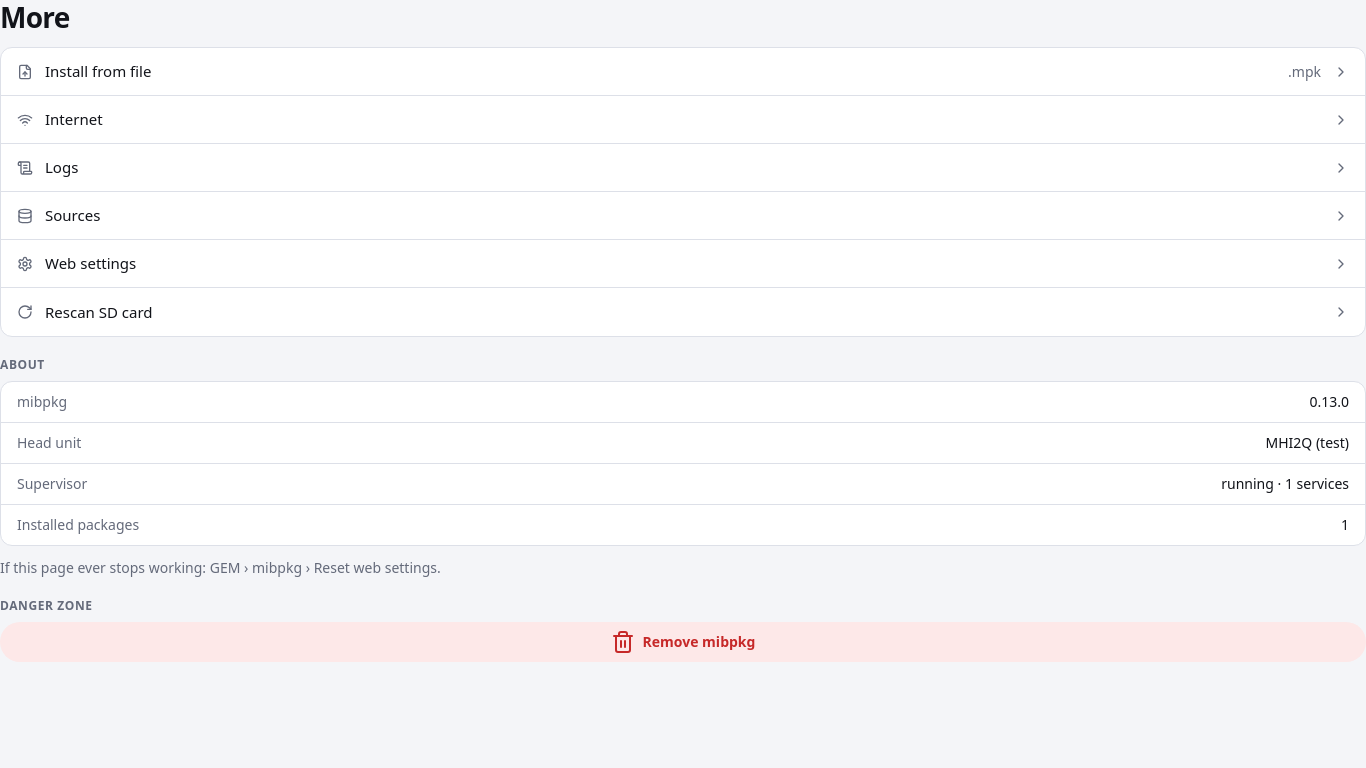
Test: More › Remove mibpkg is a sheet that waits for the acknowledgement
Click the button "Remove mibpkg" at (683, 642), box [0,622,1365,662]
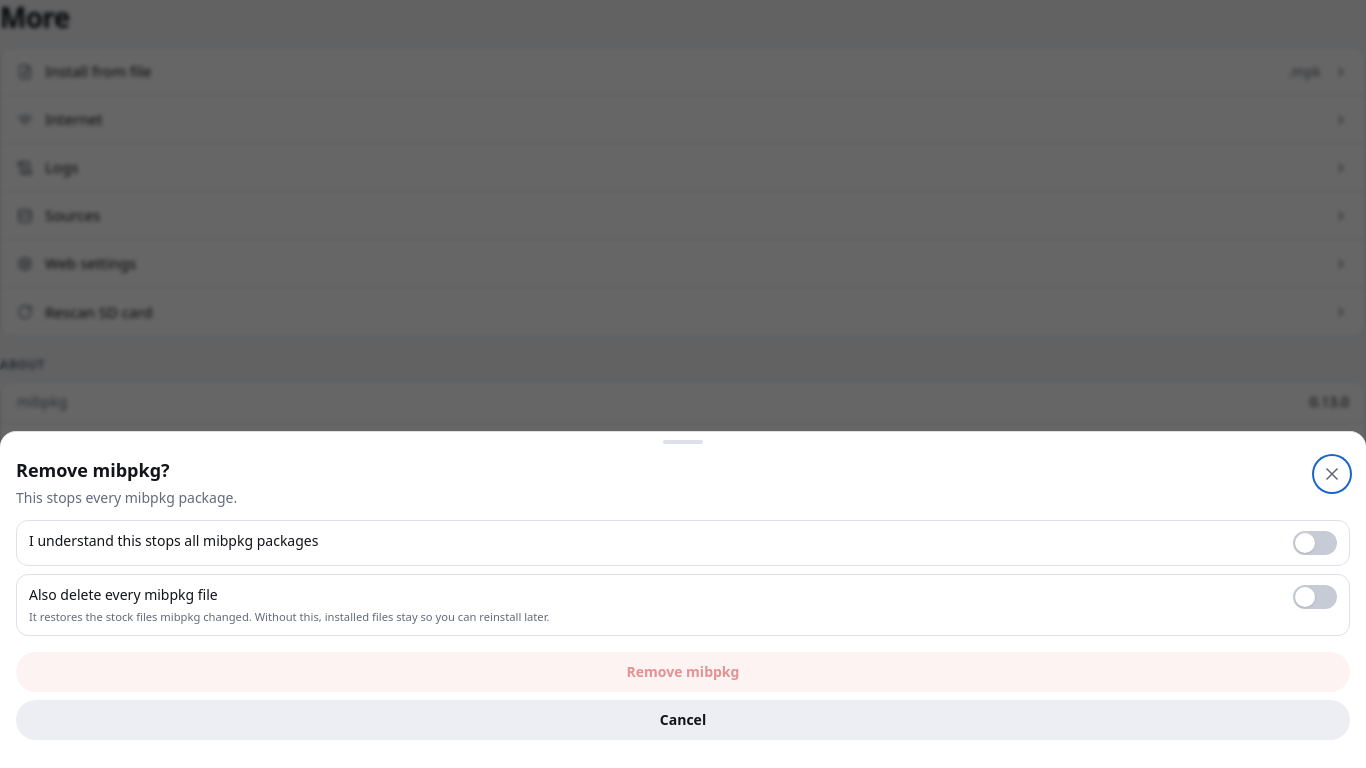
Expected: the button "Remove mibpkg" is disabled, [16,652,1350,692]
Click the switch named "I understand" at (1315, 543), box [1293,531,1337,555]
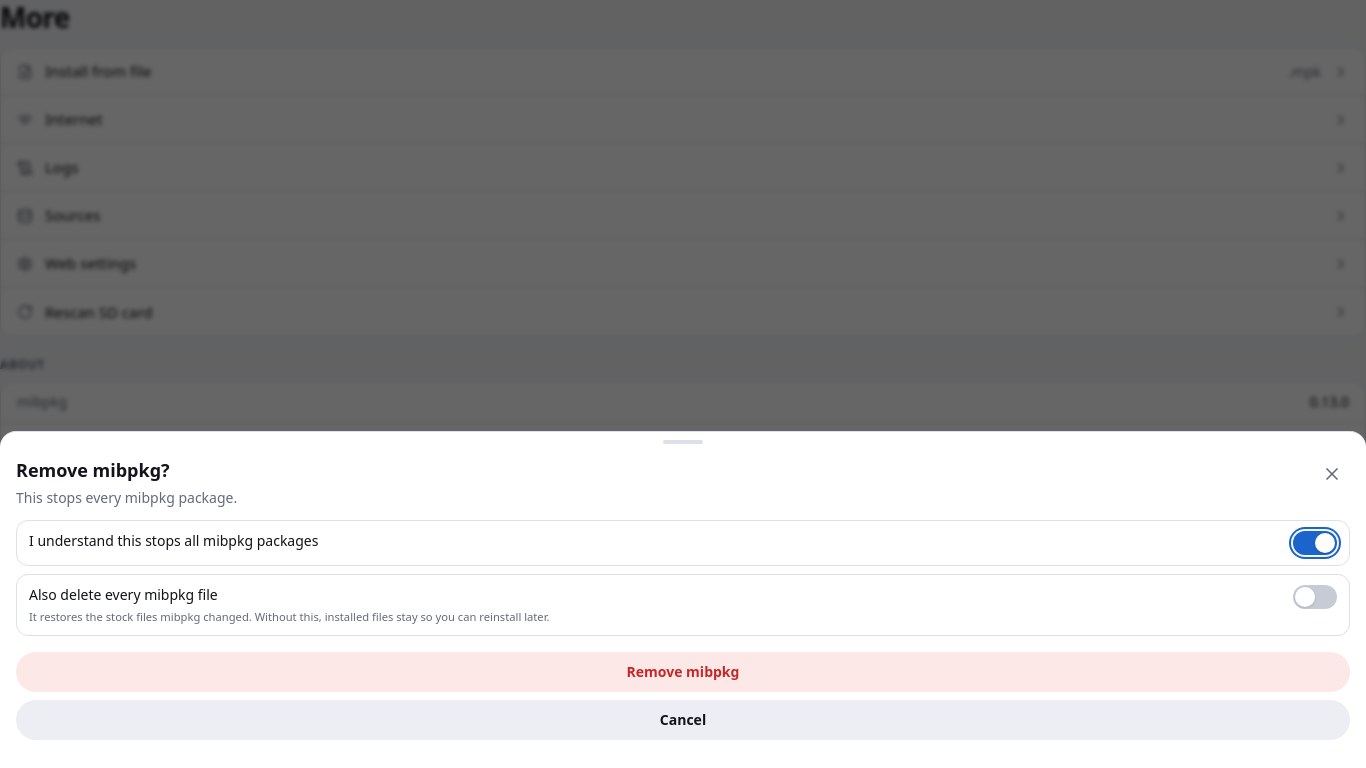
Expected: the switch named "Also delete every mibpkg file" is not checked, [1293,585,1337,609]
Expected: the button "Remove mibpkg" is enabled, [16,652,1350,692]
